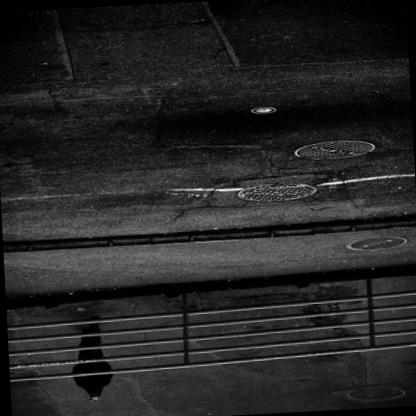manholes: (276, 126, 382, 171), (221, 170, 325, 214), (333, 229, 412, 262)
